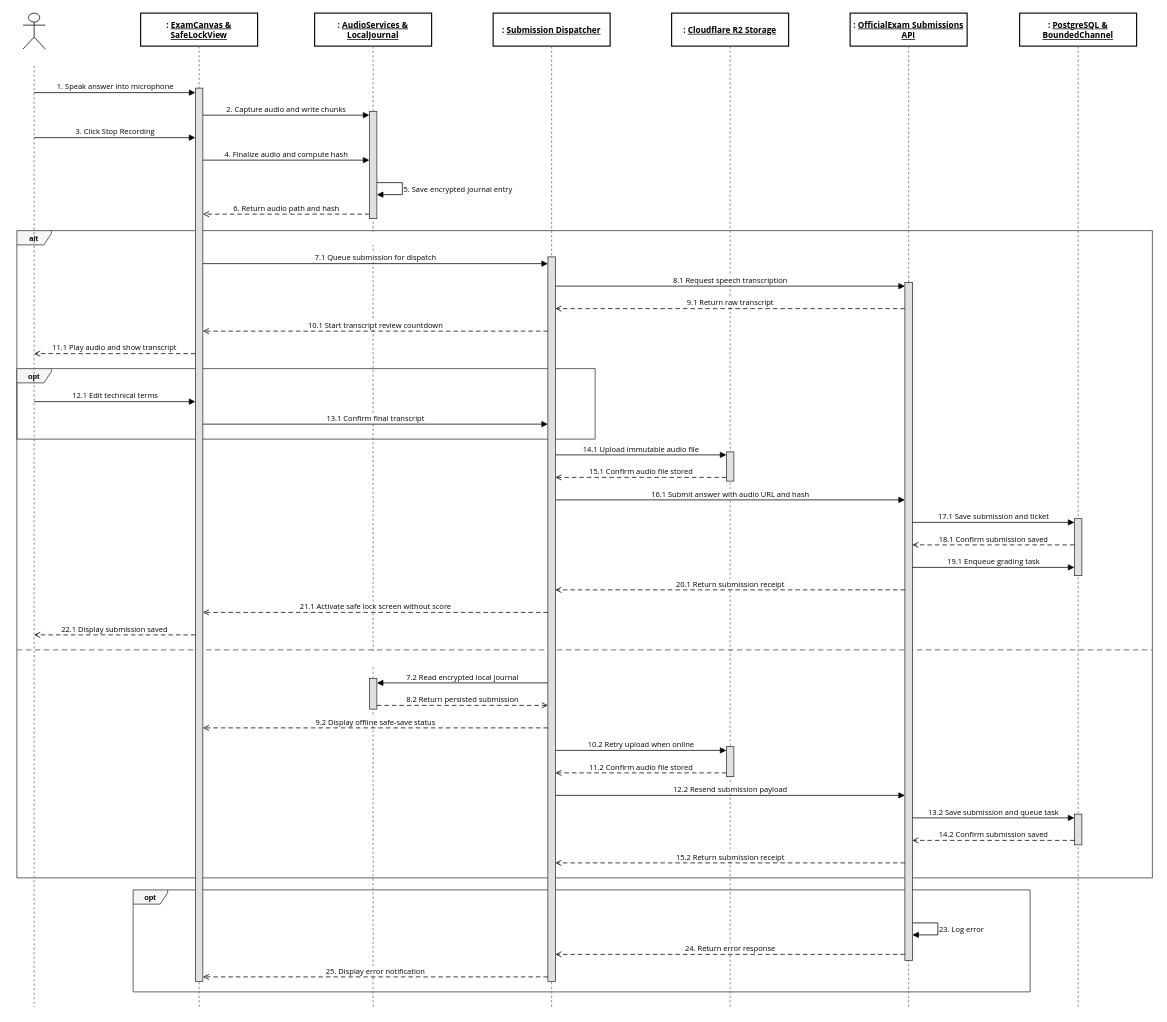
Some shapes in this 1167 by 1022 pixel diagram are drawn without their labels. The shapes that lost their labels are listed below. From the top down, each one's centre as x and y in pixels, then its label:
At (33,30): "Candidate".
At (303,238): "[Network Online - Immediate Persist-First Upload]".
At (269,376): "[Transcript Edit Mode Enabled]".
At (321,658): "[Network Disconnected - Offline Local Journal & Auto-Sync]".
At (246,897): "[Exception occurs]".
